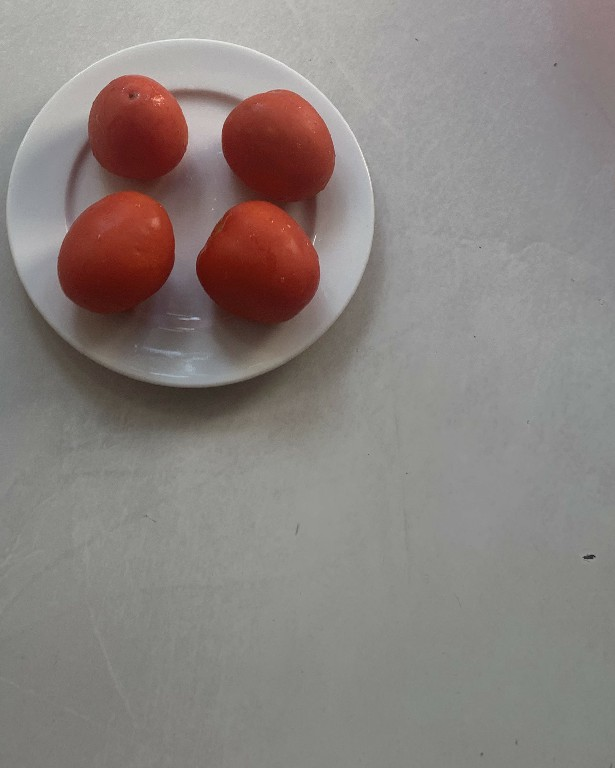OK: (54, 181, 181, 320), (194, 200, 320, 327), (214, 87, 343, 202), (87, 69, 194, 176)
